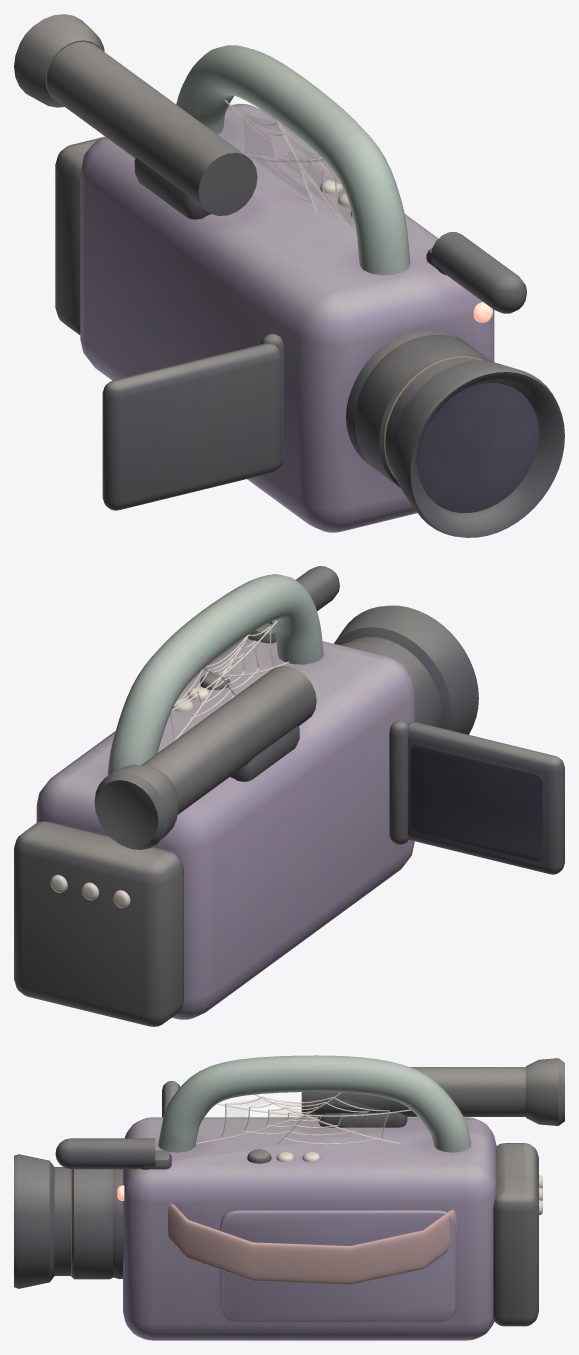
File: old-camcorder.glb
3 renders of one model, top to bottom at view 1: azimuth 30°, elevation 25°; view 2: azimuth 150°, elevation 25°; view 3: azimuth 270°, elevation 25°, orthographic. The views are drawn at different scales.
Visible parts, largest first — view 1: old-camcorder_body, old-camcorder_screen, old-camcorder_web; view 2: old-camcorder_body, old-camcorder_screen, old-camcorder_web; view 3: old-camcorder_body, old-camcorder_web.
Boxes of the visible parts, <box> form: old-camcorder_body: <box>14,14,564,537</box>; old-camcorder_screen: <box>102,334,283,510</box>; old-camcorder_web: <box>224,100,357,238</box>; old-camcorder_body: <box>14,566,478,1026</box>; old-camcorder_screen: <box>389,720,564,874</box>; old-camcorder_web: <box>170,620,289,741</box>; old-camcorder_body: <box>14,1055,564,1340</box>; old-camcorder_web: <box>196,1092,411,1144</box>.
Bounding box in the file's own units: 0.2152 × 0.1774 × 0.339.
Materials: 5 (2 with a texture image).
